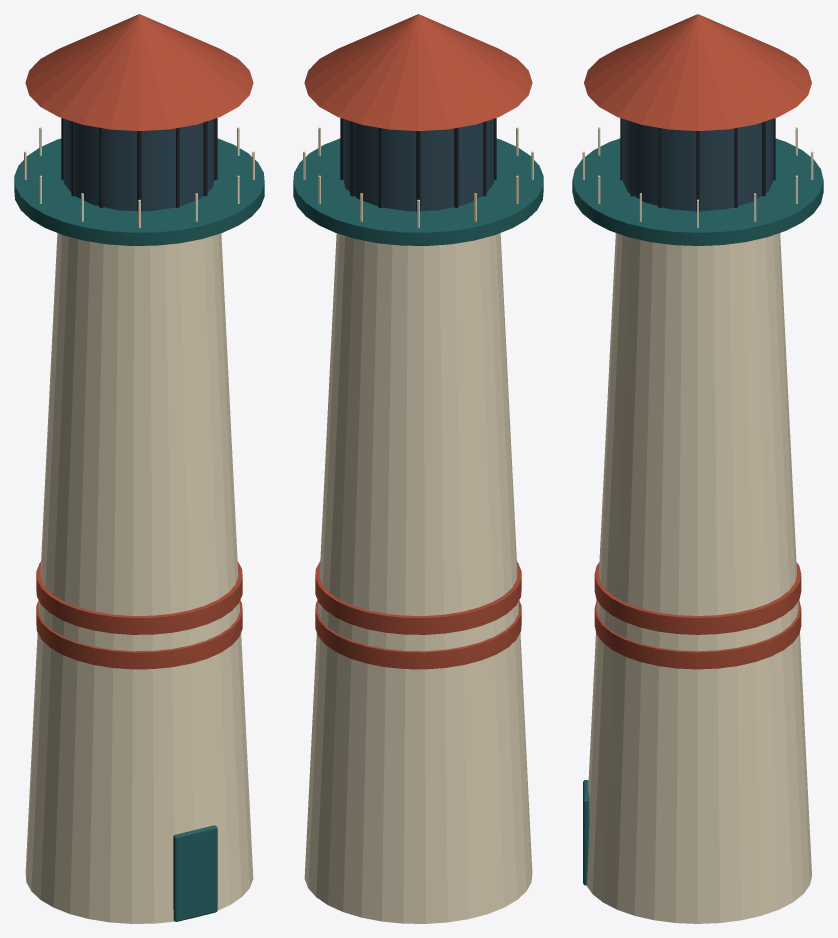
File: lighthouse.glb
3 renders of one model, left to right at view 1: azimuth 30°, elevation 25°; view 2: azimuth 150°, elevation 25°; view 3: azimuth 270°, elevation 25°, orthographic.
Visible parts, largest first — view 1: ivory, red, teal, glass, ink; view 2: ivory, red, teal, glass, ink; view 3: ivory, red, teal, glass, ink.
Part boxes in pixels (<box>): ivory: <box>24,127,254,923</box>; red: <box>25,14,253,669</box>; teal: <box>14,138,264,921</box>; glass: <box>64,119,214,211</box>; ink: <box>61,118,217,211</box>; ivory: <box>303,127,533,923</box>; red: <box>304,14,532,669</box>; teal: <box>293,138,543,245</box>; glass: <box>343,119,493,211</box>; ink: <box>340,118,496,211</box>; ivory: <box>582,127,813,923</box>; red: <box>584,14,811,669</box>; teal: <box>572,138,823,885</box>; glass: <box>622,118,773,211</box>; ink: <box>620,118,775,212</box>.
Bounding box in the file's own units: 6.6 × 25 × 6.6.
